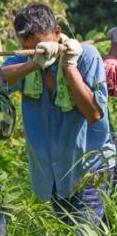gloves: (32, 40, 66, 69), (61, 37, 82, 66)
hard-hat: (0, 0, 39, 44)
